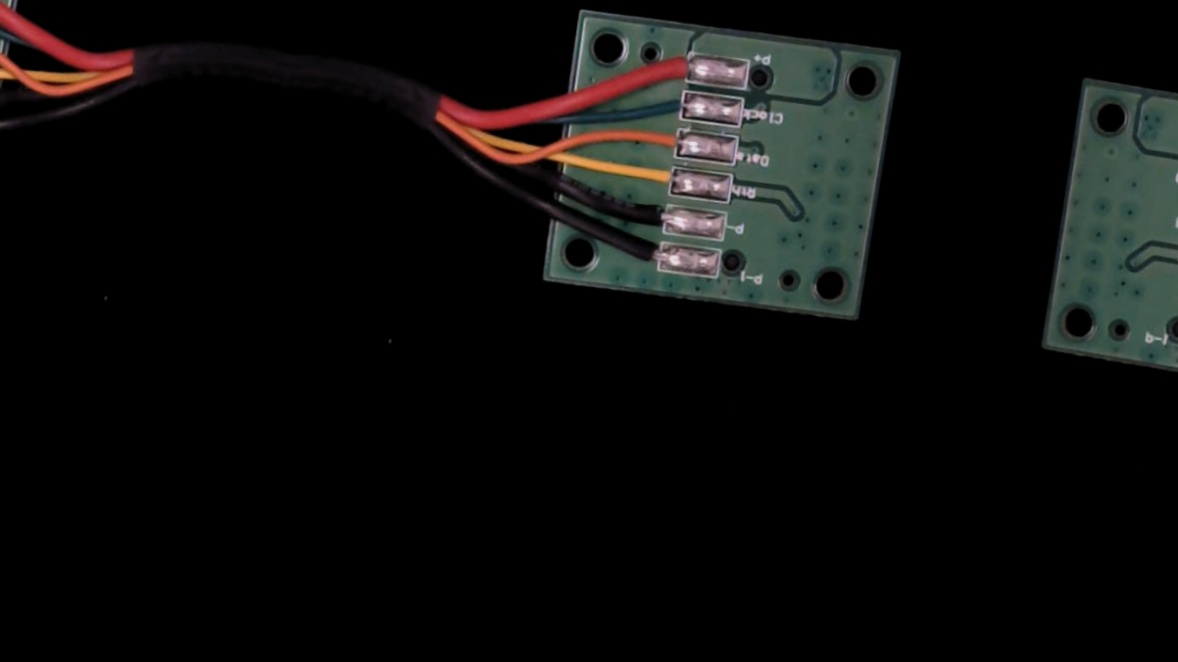Black: (621, 196, 684, 236)
Black1: (614, 233, 678, 274)
Green: (649, 83, 700, 123)
Orange: (640, 120, 695, 158)
Red: (656, 45, 707, 85)
Yellow: (631, 156, 689, 201)
